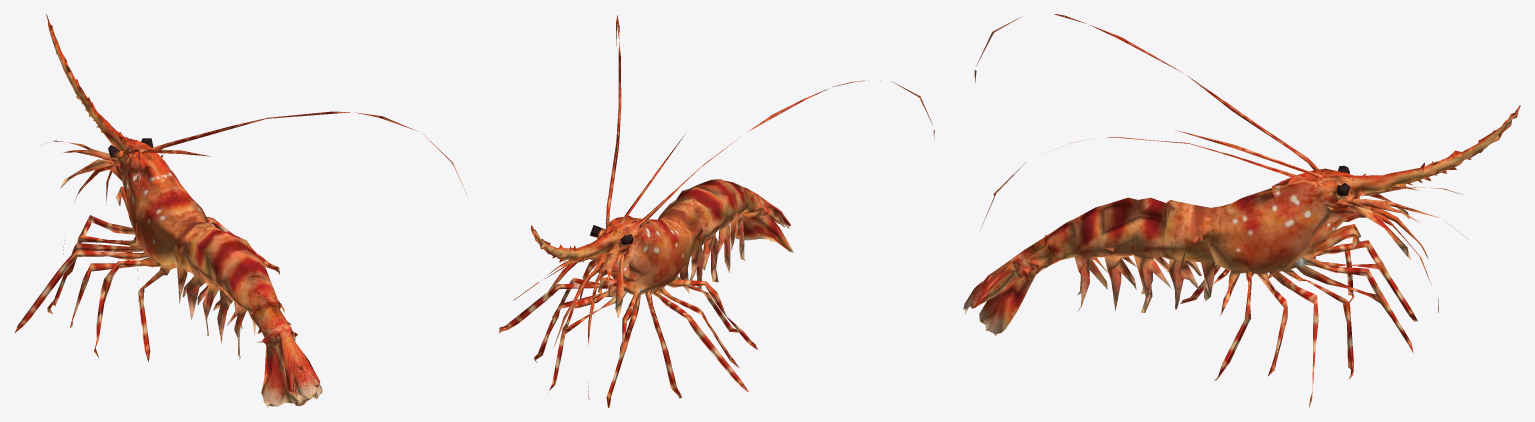
Rendered from shrimp-low.glb.
The picture shows the model from 3 angles, left to right: view 1: azimuth 30°, elevation 25°; view 2: azimuth 150°, elevation 25°; view 3: azimuth 270°, elevation 25°; orthographic projection. The views are drawn at different scales.
Parts seen in each view (by area): view 1: tripo_node_a572f918-1d0d-4365-8549-0f45d34986db; view 2: tripo_node_a572f918-1d0d-4365-8549-0f45d34986db; view 3: tripo_node_a572f918-1d0d-4365-8549-0f45d34986db.
Part boxes in pixels (box(x1,y1,x2,y2)): tripo_node_a572f918-1d0d-4365-8549-0f45d34986db: box(15, 14, 466, 407); tripo_node_a572f918-1d0d-4365-8549-0f45d34986db: box(499, 15, 934, 407); tripo_node_a572f918-1d0d-4365-8549-0f45d34986db: box(963, 14, 1520, 406).
Bounding box in the file's own units: 0.1268 × 0.0904 × 0.1737.
1 material, 1 textured.
